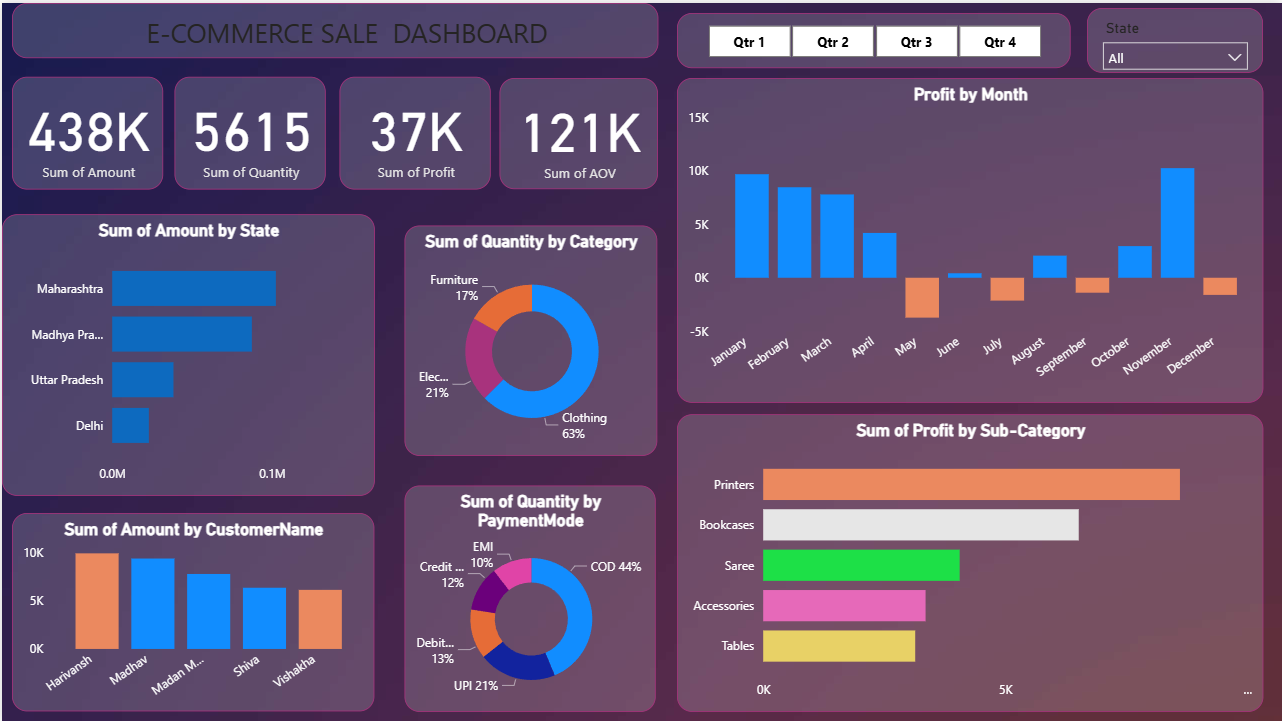

This screenshot's page, from the dashboard's own definition file:
{"tool":"powerbi","page":{"name":"Page 1","canvas":[1280,720],"ordinal":0},"visuals":[{"type":"textbox","box":[10,0,646.2,55],"z":0},{"type":"columnChart","title":"Profit by Month","fields":{"Category":["Orders.Order Date.Variation.Date Hierarchy.Month"],"Y":["Details.Profit"]},"box":[675,75,586.2,325],"z":1000},{"type":"barChart","fields":{"Y":["Details.Profit"],"Category":["Details.Sub-Category"]},"box":[675,411.2,586.2,297.5],"z":2000},{"type":"donutChart","fields":{"Category":["Details.Category"],"Y":["Details.Quantity"]},"box":[402.5,222.5,252.5,230],"z":3000},{"type":"donutChart","fields":{"Category":["Details.PaymentMode"],"Y":["Details.Quantity"]},"box":[402.5,482.5,251.2,226.2],"z":4000},{"type":"card","fields":{"Values":["Details.Amount"]},"box":[10,73.8,151.2,112.5],"z":4001},{"type":"card","fields":{"Values":["Details.Quantity"]},"box":[172.5,73.8,151.2,112.5],"z":4002},{"type":"card","fields":{"Values":["Details.Profit"]},"box":[337.5,73.8,151.2,112.5],"z":4003},{"type":"card","fields":{"Values":["Details.AOV"]},"box":[497.5,75,158.8,111.2],"z":4004},{"type":"barChart","fields":{"Category":["Orders.State"],"Y":["Details.Amount"]},"box":[0,211.2,372.5,281.2],"z":4005},{"type":"columnChart","fields":{"Category":["Orders.CustomerName"],"Y":["Details.Amount"]},"box":[10,510,362.5,198.8],"z":4006},{"type":"slicer","fields":{"Values":["Orders.Order Date.Variation.Date Hierarchy.Quarter"]},"box":[675,10,393.8,55],"z":4007},{"type":"slicer","fields":{"Values":["Orders.State"]},"box":[1085,5,176.2,65],"z":4008}]}

Visuals, with their boxes in screenshot pixels (x1, y1, x2, y2), scaled from the page's 1280x720 canvas onto the 1282x721 screenshot:
textbox: rect(10, 0, 657, 55)
"Profit by Month" columnChart: rect(676, 75, 1263, 401)
barChart - Details.Profit x Details.Sub-Category: rect(676, 412, 1263, 710)
donutChart - Details.Category x Details.Quantity: rect(403, 223, 656, 453)
donutChart - Details.PaymentMode x Details.Quantity: rect(403, 483, 655, 710)
card - Details.Amount: rect(10, 74, 161, 187)
card - Details.Quantity: rect(173, 74, 324, 187)
card - Details.Profit: rect(338, 74, 489, 187)
card - Details.AOV: rect(498, 75, 657, 186)
barChart - Orders.State x Details.Amount: rect(0, 211, 373, 493)
columnChart - Orders.CustomerName x Details.Amount: rect(10, 511, 373, 710)
slicer - Orders.Order Date.Variation.Date Hierarchy.Quarter: rect(676, 10, 1070, 65)
slicer - Orders.State: rect(1087, 5, 1263, 70)
